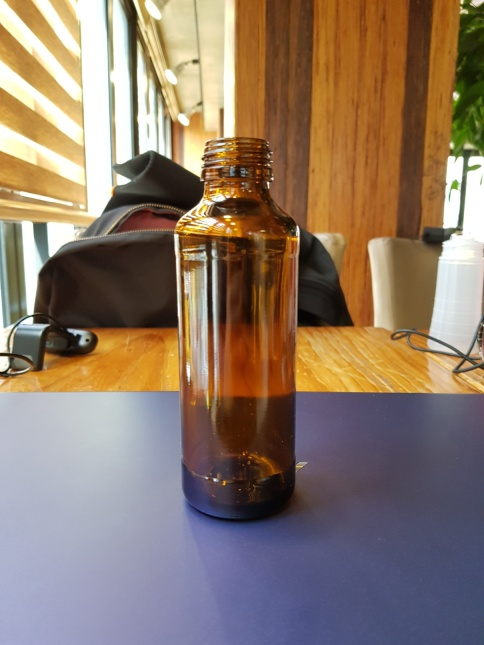Glass: (170, 135, 303, 527)
